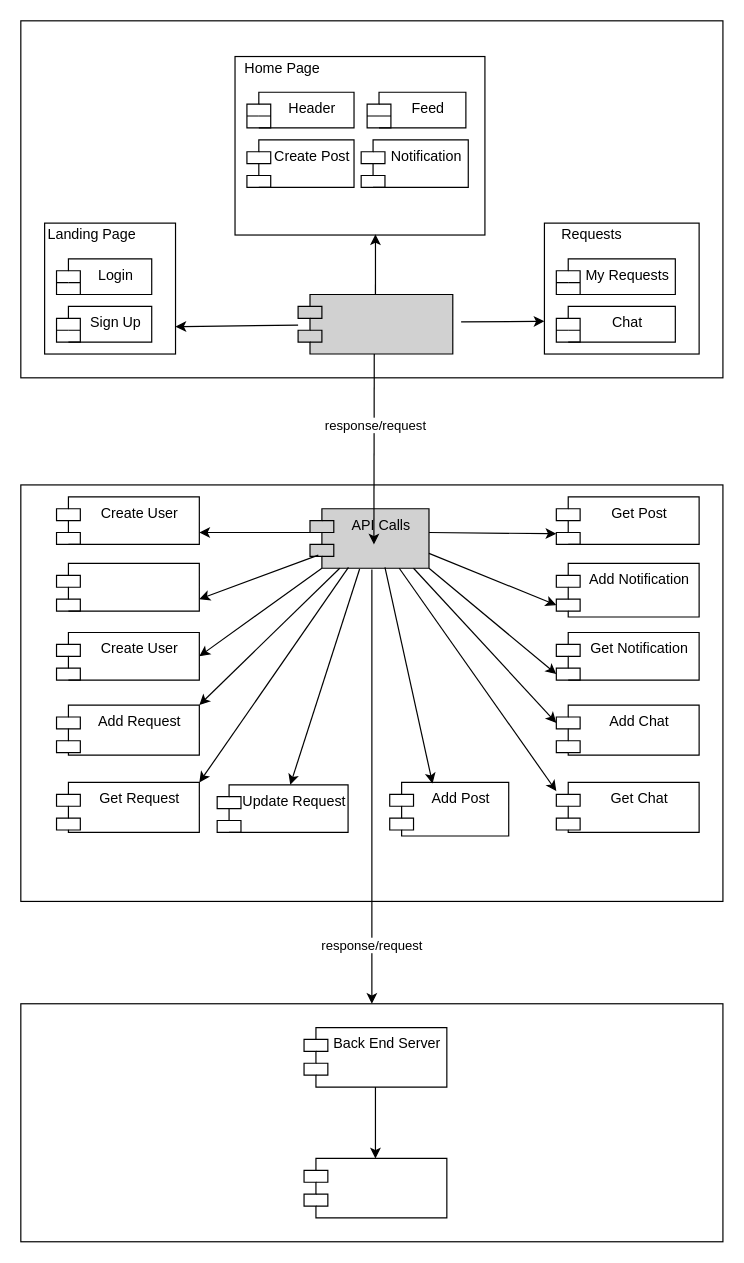
Some shapes in this 744 by 1263 pixel diagram are drawn without their labels. The box of each missing label's shape, as (x1, y1, x2, y2) in pixels:
Authorize User: (55, 562, 199, 611)
Database: (303, 1157, 447, 1218)
Front End Server: (297, 293, 453, 354)
